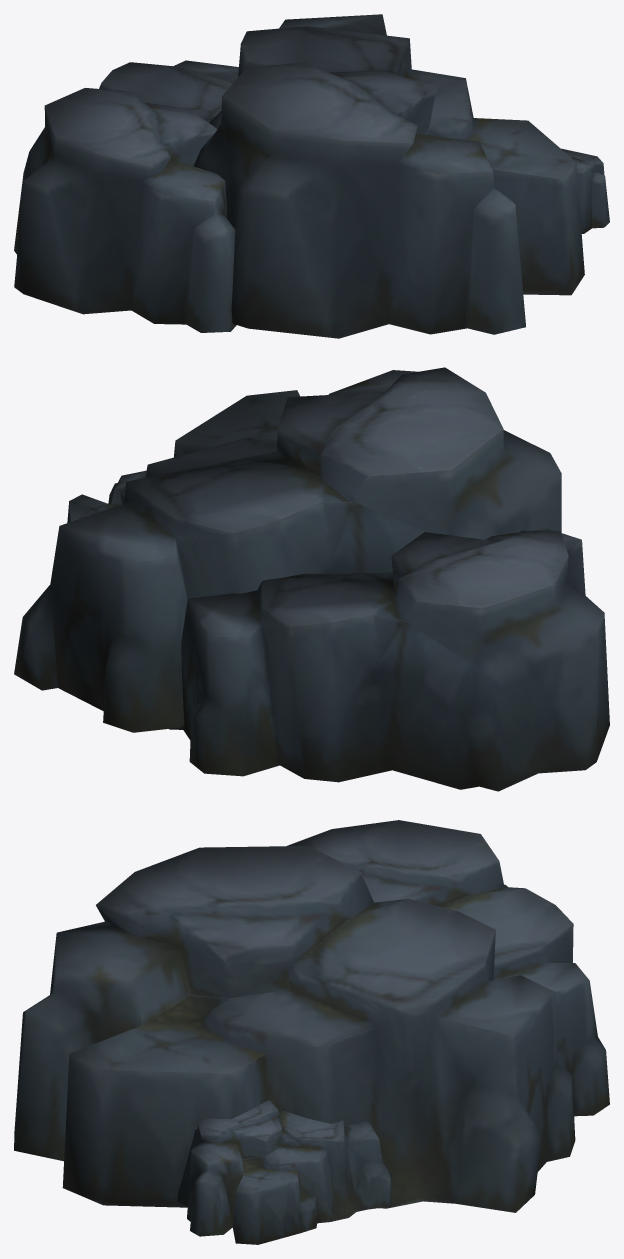
Rendered from Area_06_11.fbx.
The picture shows the model from 3 angles, top to bottom: view 1: azimuth 30°, elevation 25°; view 2: azimuth 150°, elevation 25°; view 3: azimuth 270°, elevation 25°; orthographic projection. The views are drawn at different scales.
Parts seen in each view (by area): view 1: Area_06_11; view 2: Area_06_11; view 3: Area_06_11.
Boxes of the visible parts, x1,y1,x2,y2 form: Area_06_11: [14, 14, 609, 338]; Area_06_11: [14, 367, 609, 791]; Area_06_11: [14, 820, 609, 1244].
Size of the model in its own units: 2700 by 925 by 2349.
